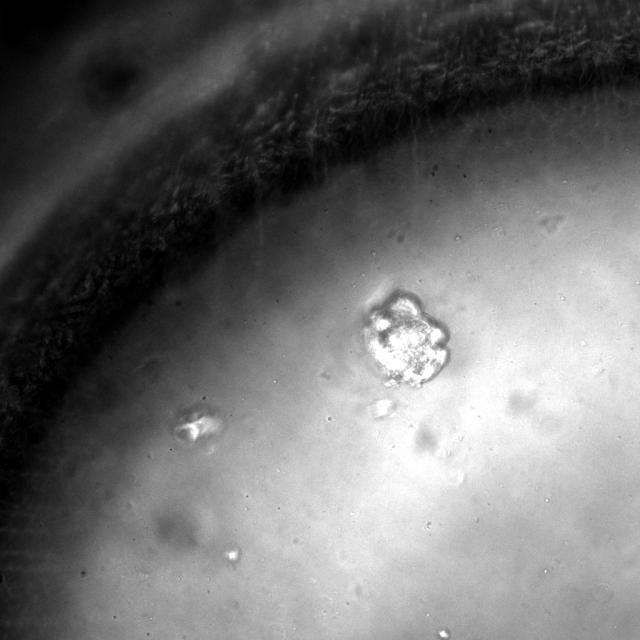organoid: (363, 291, 448, 386), (171, 401, 224, 446)
